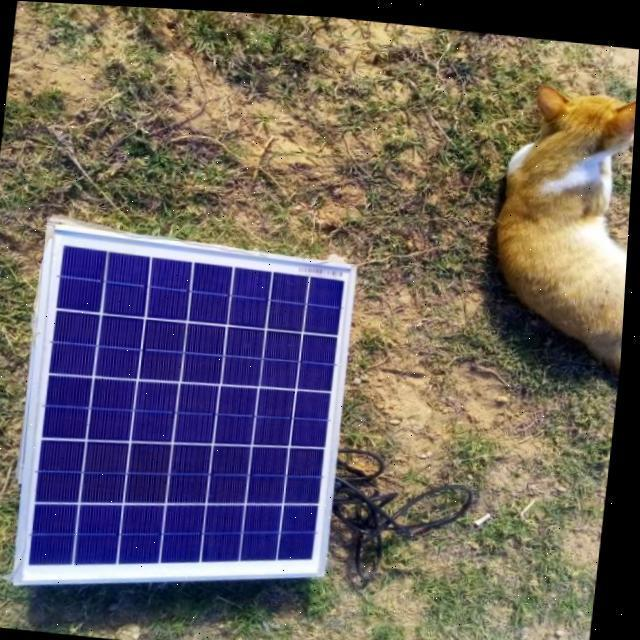Normal Solar Panel: (15, 223, 362, 612)
